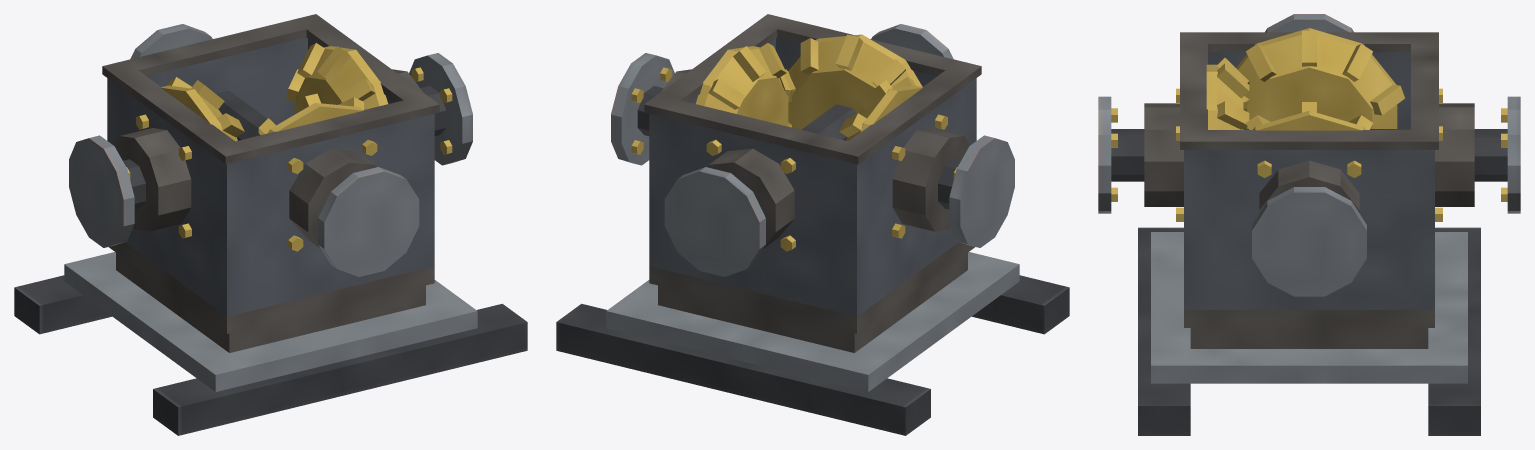
File: shafthub.obj
3 views of the same model, side by side, from view 1: azimuth 30°, elevation 25°; view 2: azimuth 150°, elevation 25°; view 3: azimuth 270°, elevation 25° (orthographic). The views are drawn at different scales.
Parts seen in each view (by area): view 1: main, rotor_x, rotor; view 2: main, rotor, rotor_x; view 3: main, rotor_x, rotor.
Part boxes in pixels (box(x1,y1,x2,y2)): main: box(14, 14, 527, 435); rotor_x: box(69, 43, 472, 247); rotor: box(130, 24, 419, 276); main: box(556, 14, 1069, 435); rotor: box(664, 24, 953, 276); rotor_x: box(611, 43, 1014, 247); main: box(1138, 32, 1480, 435); rotor_x: box(1236, 14, 1404, 296); rotor: box(1098, 58, 1520, 213).
Size of the model in its own units: 1 by 0.7326 by 1.
1 material, 1 textured.
